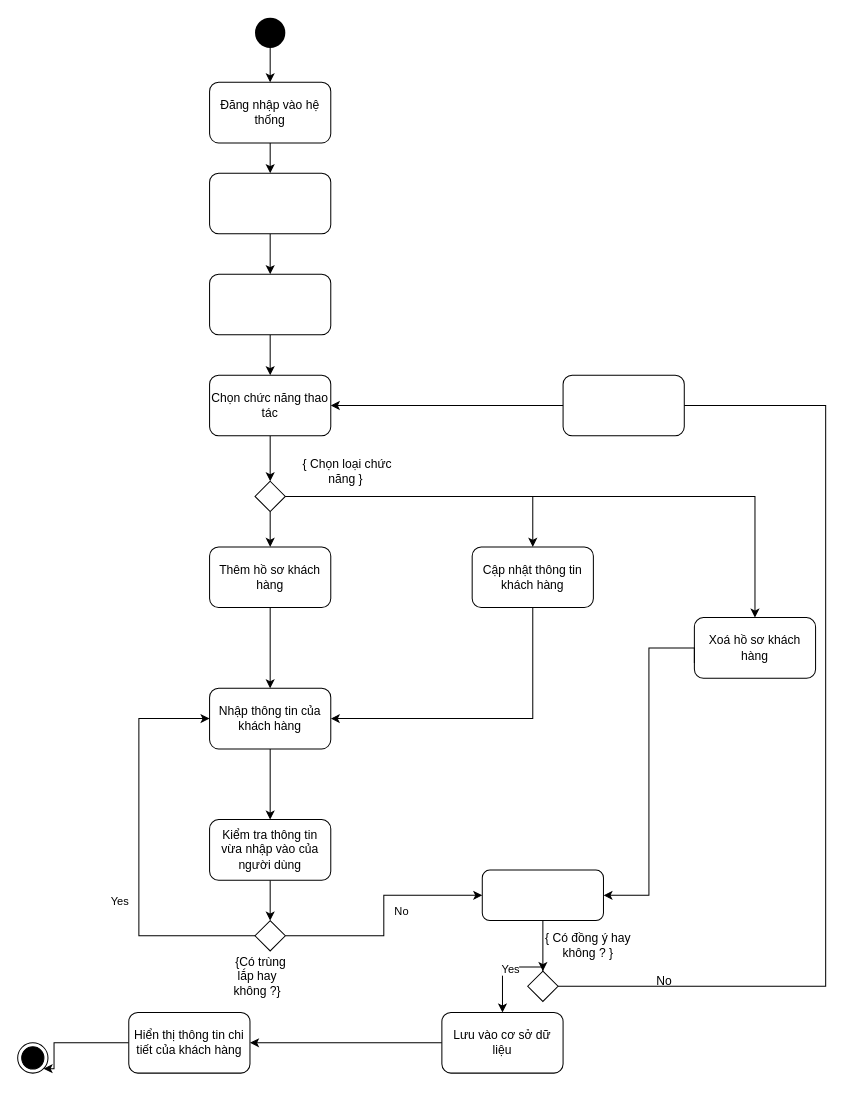
Some shapes in this 851 by 1095 pixel diagram are drawn without their labels. The shapes that lost their labels are listed below. From the top down, each one's centre as x and y in pixels, then its label:
(270,203): Hiển thị danh sách hồ sơ khách hàng
(270,304): Người dùng chọn hồ sơ của khách hàng
(623,405): Huỷ bỏ thay đổi
(542,895): Xác nhận
